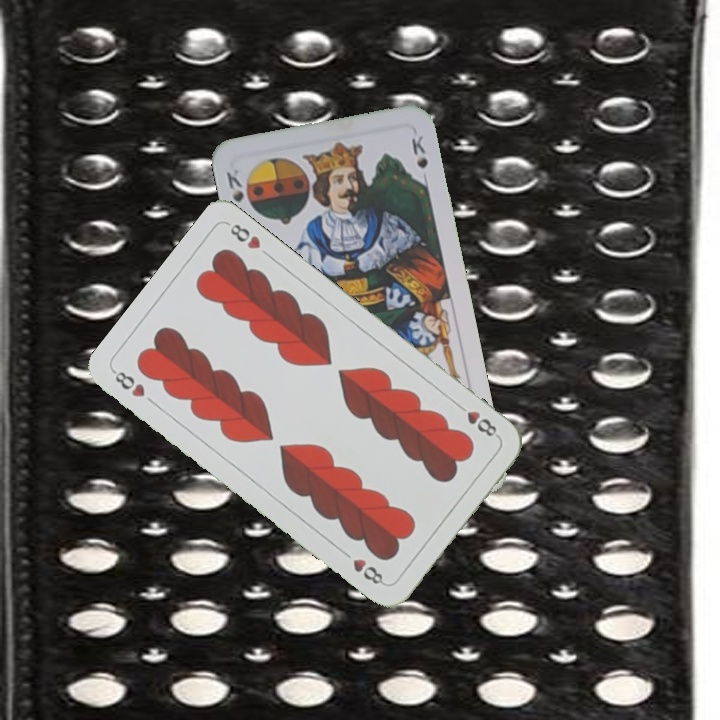H8: (452, 399, 502, 441), (109, 366, 148, 400)
SK: (222, 165, 247, 205)
